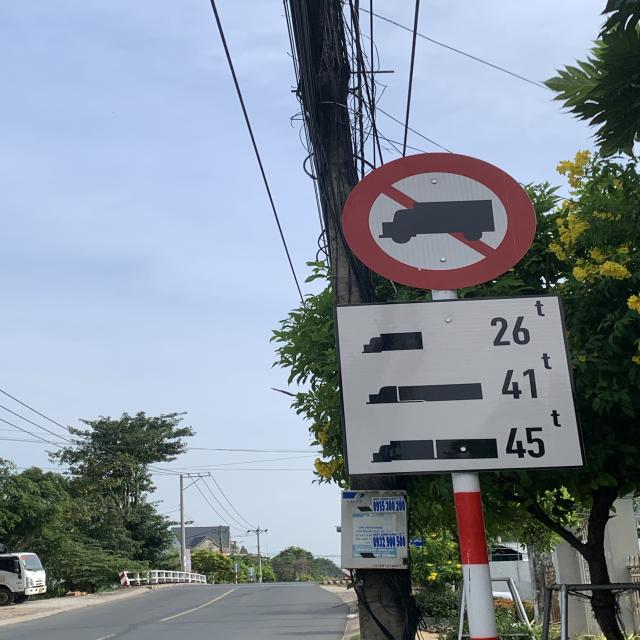Cam_Xe_Tai: (339, 152, 541, 292)
